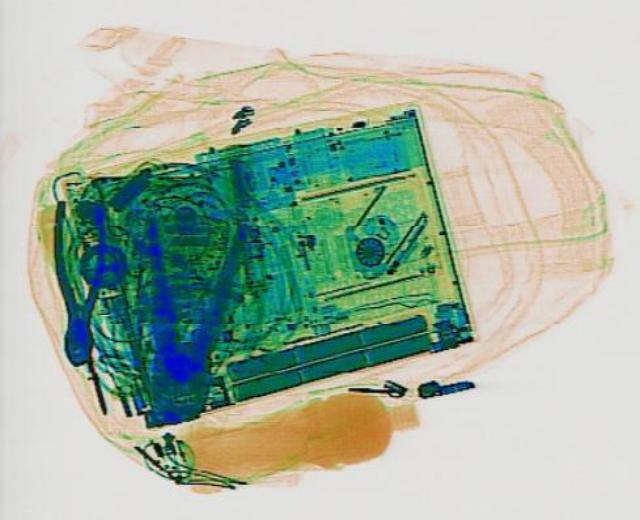Pliers: (119, 212, 249, 423), (48, 199, 104, 363)
